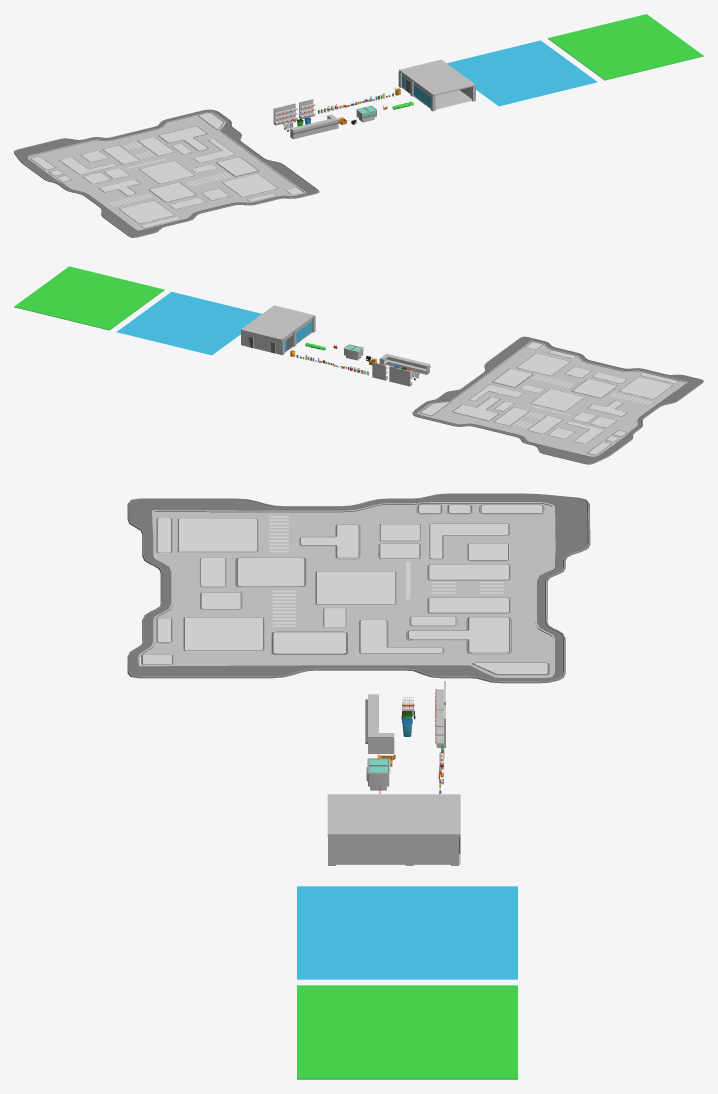
Rendered from supermarket model2.fbx.
3 views of the same model, one above another, from view 1: azimuth 30°, elevation 25°; view 2: azimuth 150°, elevation 25°; view 3: azimuth 270°, elevation 25° (orthographic). The views are drawn at different scales.
Parts seen in each view (by area): view 1: convert1.001, cao, sea, Plane.008, Cube.008, huojia1; view 2: convert1.001, cao, sea, Plane.008, Cube.008, huojia1; view 3: convert1.001, cao, sea, Plane.008, Cube.008.
Boxes of the visible parts, x1,y1,x2,y2 form: convert1.001: [14, 109, 319, 237]; cao: [548, 14, 703, 80]; sea: [447, 40, 597, 106]; Plane.008: [398, 59, 475, 111]; Cube.008: [290, 114, 339, 139]; huojia1: [273, 103, 297, 125]; convert1.001: [412, 336, 703, 464]; cao: [14, 266, 164, 330]; sea: [116, 291, 261, 355]; Plane.008: [240, 305, 315, 355]; Cube.008: [379, 353, 430, 374]; huojia1: [389, 366, 412, 386]; convert1.001: [127, 493, 590, 683]; cao: [297, 985, 517, 1079]; sea: [297, 886, 517, 979]; Plane.008: [327, 794, 460, 865]; Cube.008: [365, 694, 394, 753].
Size of the model in its own units: 5828 by 191 by 1947.
